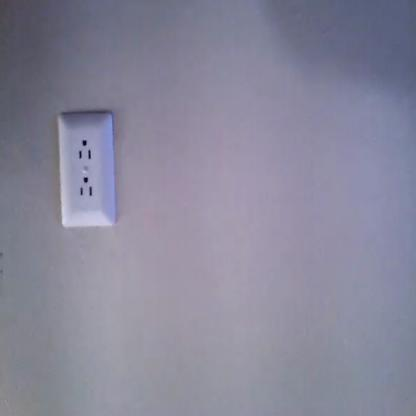OUTLET: (57, 112, 114, 228)
